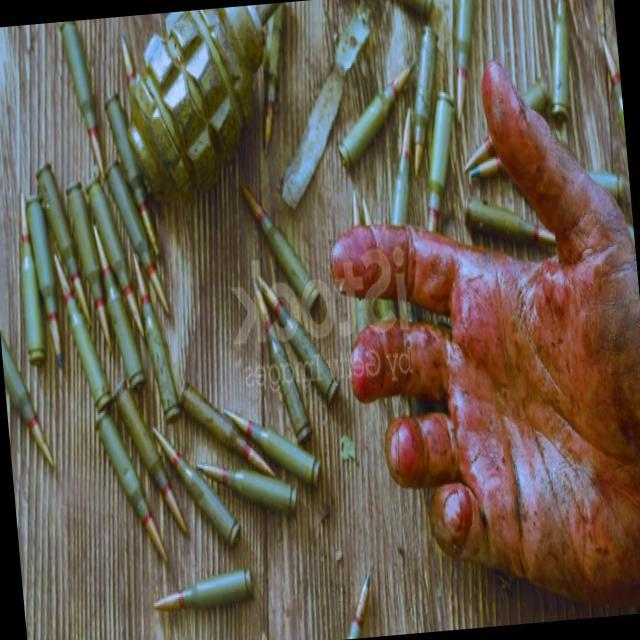grenade: (109, 6, 279, 218)
